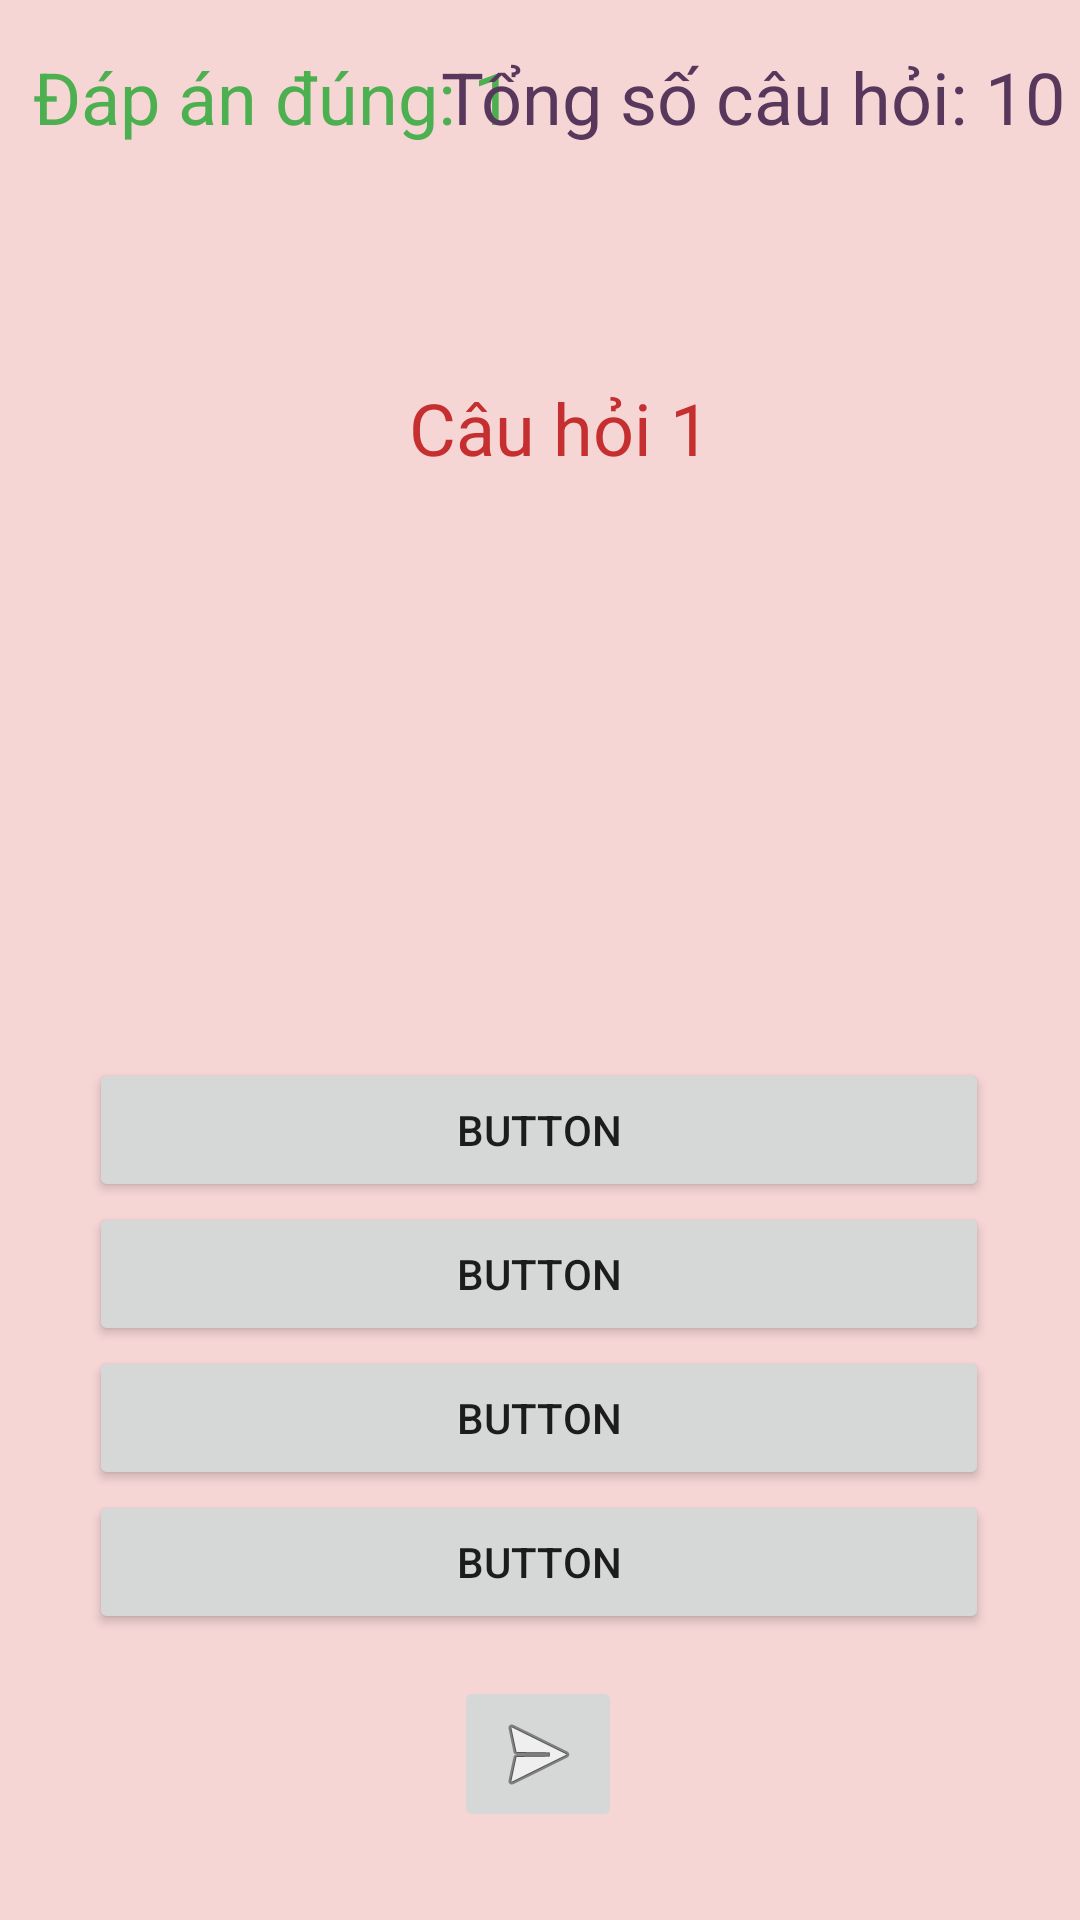

Where to tap for icons on this 1080×1920 app screen, as (x,y):
send: (538,1754)
